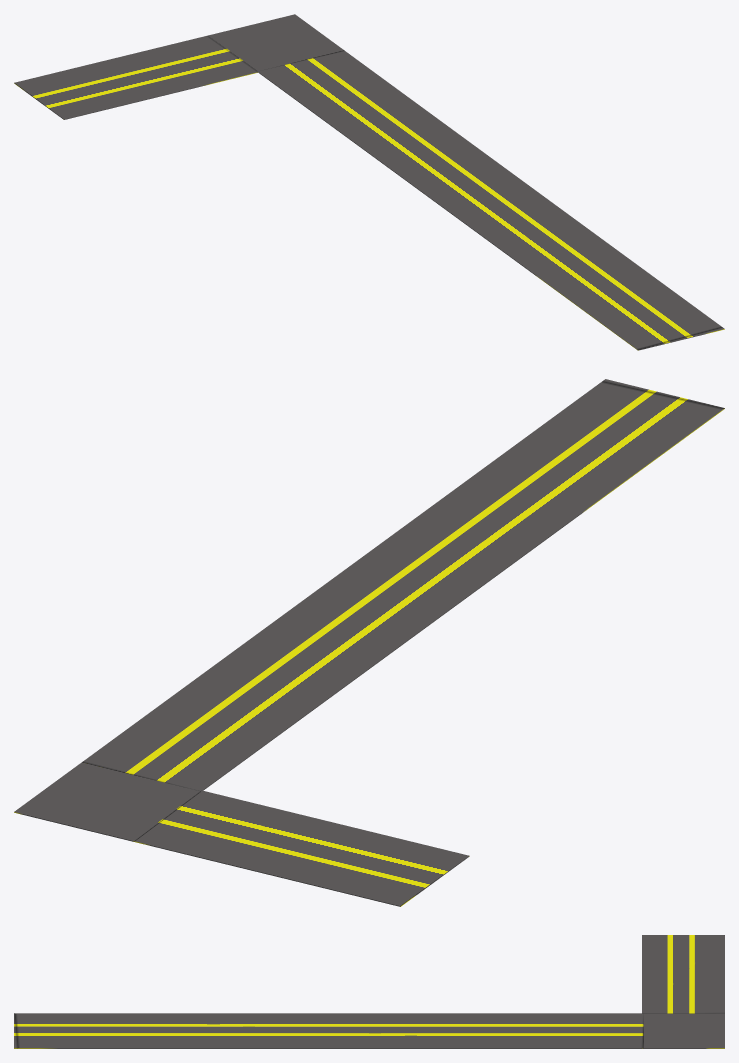
File: Camino1.obj
3 renders of one model, top to bottom at view 1: azimuth 30°, elevation 25°; view 2: azimuth 150°, elevation 25°; view 3: azimuth 270°, elevation 25°, orthographic. The views are drawn at different scales.
Parts seen in each view (by area): view 1: Calle2; view 2: Calle2; view 3: Calle2.
Part boxes in pixels (x1,y1,x2,y2): Calle2: (14,14,724,350); Calle2: (14,379,724,906); Calle2: (14,935,724,1048).
Bounding box in the file's own units: 60.48 × 0.1134 × 160.
3 materials, 3 textured.
